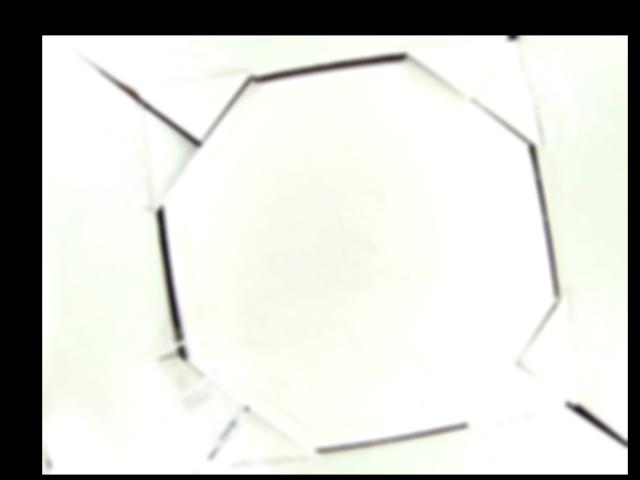Cup: (121, 333, 241, 473)
